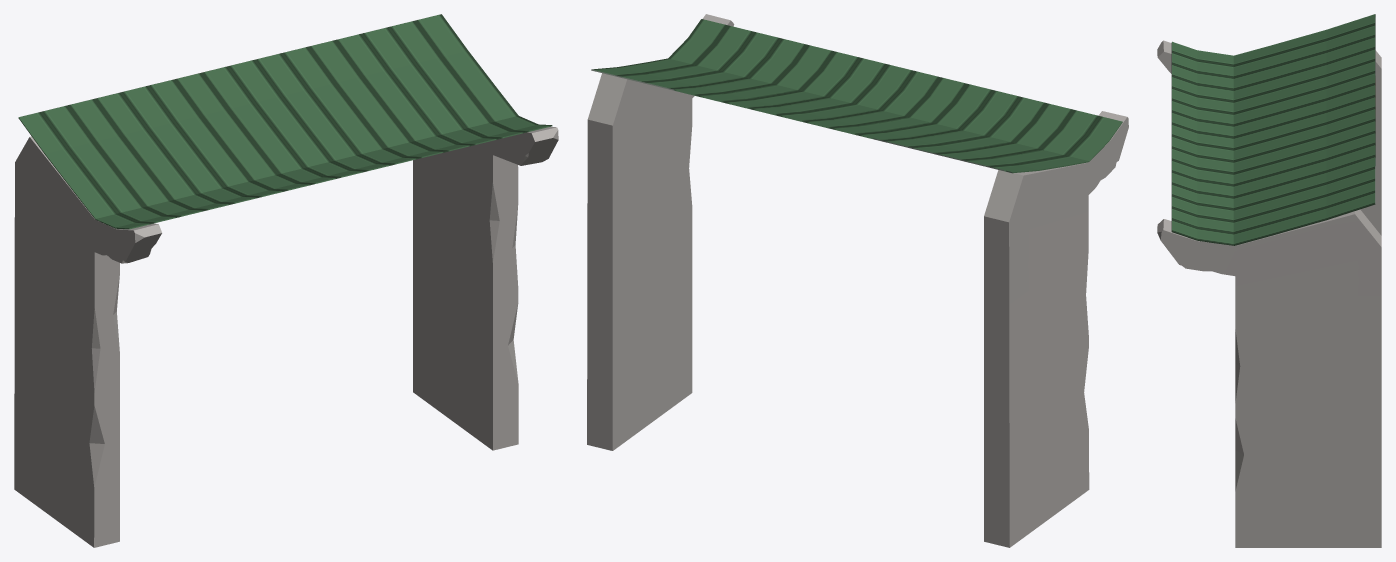
The model's file is SM_Env_Stall_12.fbx.
3 views of the same model, side by side, from view 1: azimuth 30°, elevation 25°; view 2: azimuth 150°, elevation 25°; view 3: azimuth 270°, elevation 25° (orthographic). The views are drawn at different scales.
Parts seen in each view (by area): view 1: SM_Env_Stall_12; view 2: SM_Env_Stall_12; view 3: SM_Env_Stall_12.
Part boxes in pixels (x1,y1,x2,y2): SM_Env_Stall_12: (14,14,558,547); SM_Env_Stall_12: (587,14,1128,547); SM_Env_Stall_12: (1157,14,1381,547).
Size of the model in its own units: 181 by 153 by 90.46.
1 material, 1 textured.
